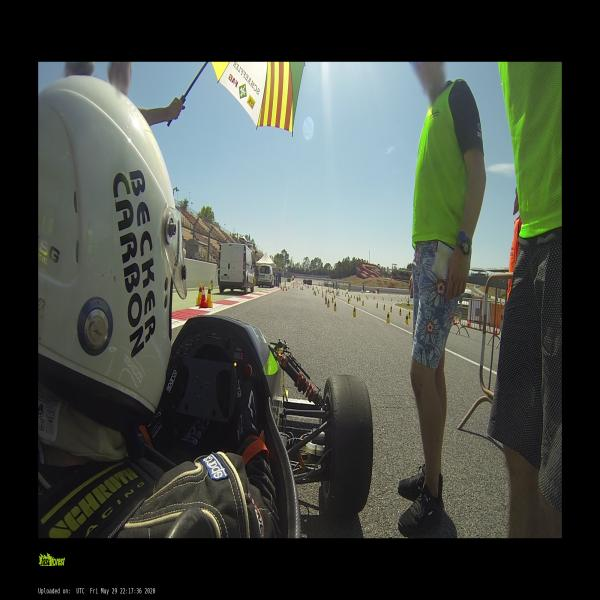orange_cone: (200, 285, 206, 302), (494, 325, 498, 334), (467, 318, 470, 327), (282, 286, 284, 291)
yellow_cone: (197, 284, 203, 299), (207, 284, 212, 301), (404, 314, 409, 325), (386, 311, 390, 323), (352, 306, 356, 317), (333, 302, 337, 311), (326, 299, 330, 307), (407, 310, 411, 318), (389, 306, 393, 312), (399, 308, 402, 315), (347, 298, 350, 304), (324, 296, 326, 304), (383, 304, 385, 311), (376, 302, 378, 308), (331, 296, 333, 302), (362, 300, 364, 305), (356, 297, 358, 302), (322, 290, 323, 298), (349, 296, 350, 302), (359, 296, 360, 300)
